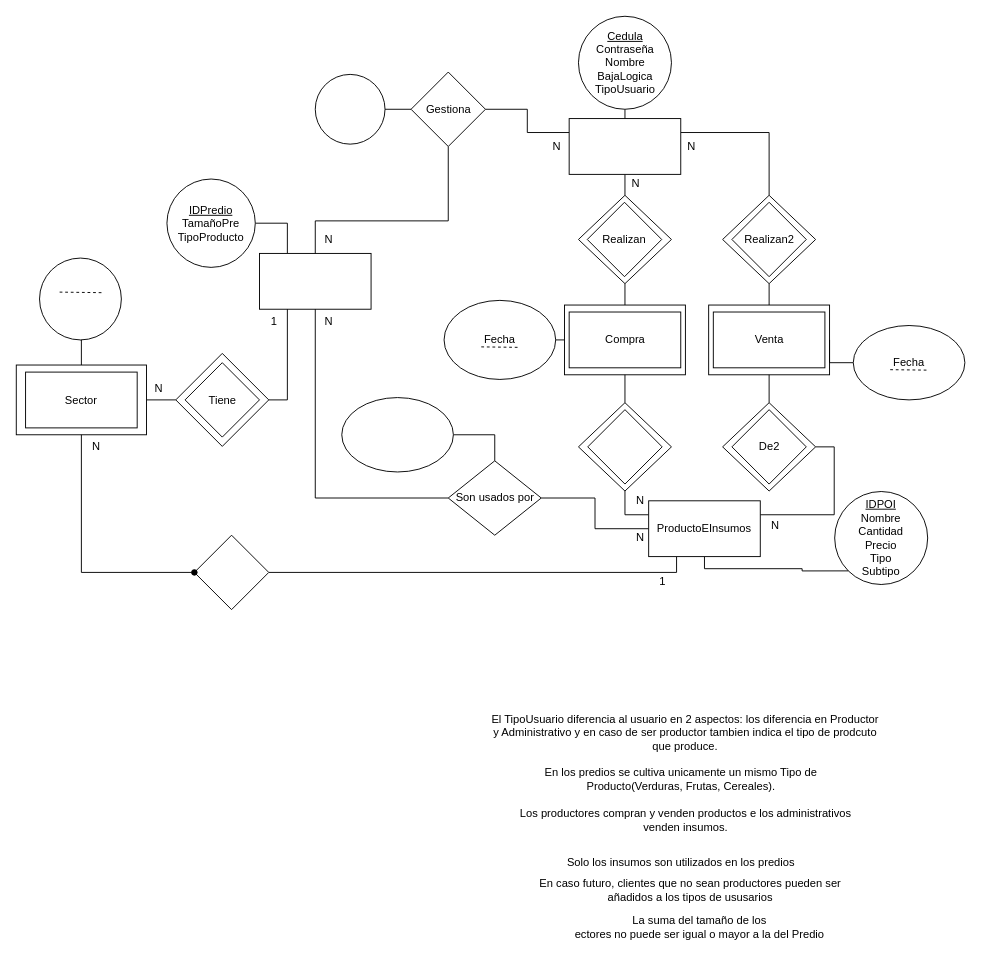
This 981x957 diagram has some shape labels left out. Each missing label, with the box of its shape:
CantidadUsada: (341, 397, 453, 472)
CultivosAño: (314, 73, 385, 144)
De: (587, 409, 662, 484)
IDSector TamañoSec Activo: (39, 257, 121, 340)
Predios: (259, 252, 371, 309)
ProdSect: (193, 534, 269, 610)
Usuario: (568, 118, 681, 174)
